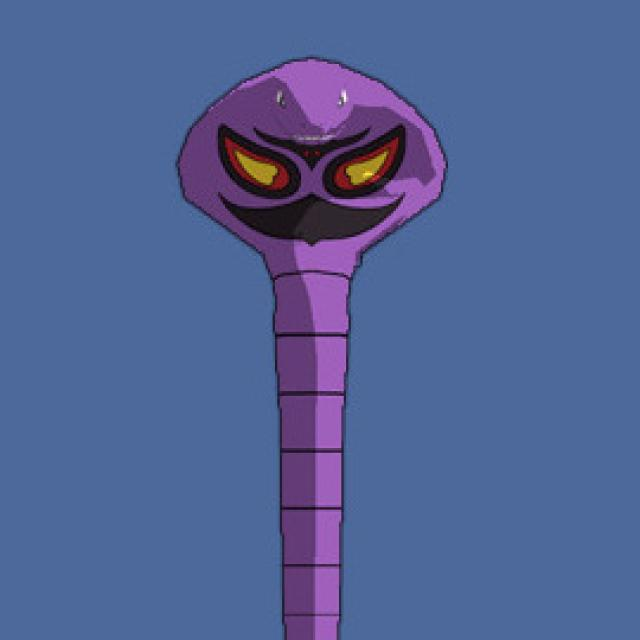Arbok: (165, 54, 451, 397)
